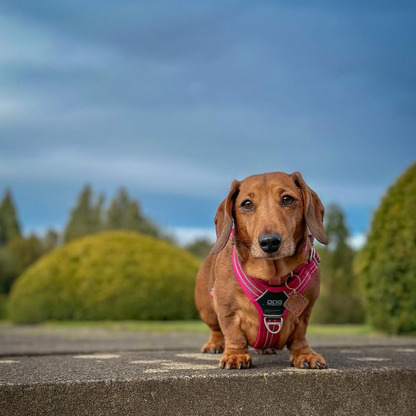dachshund: (146, 156, 364, 380)
